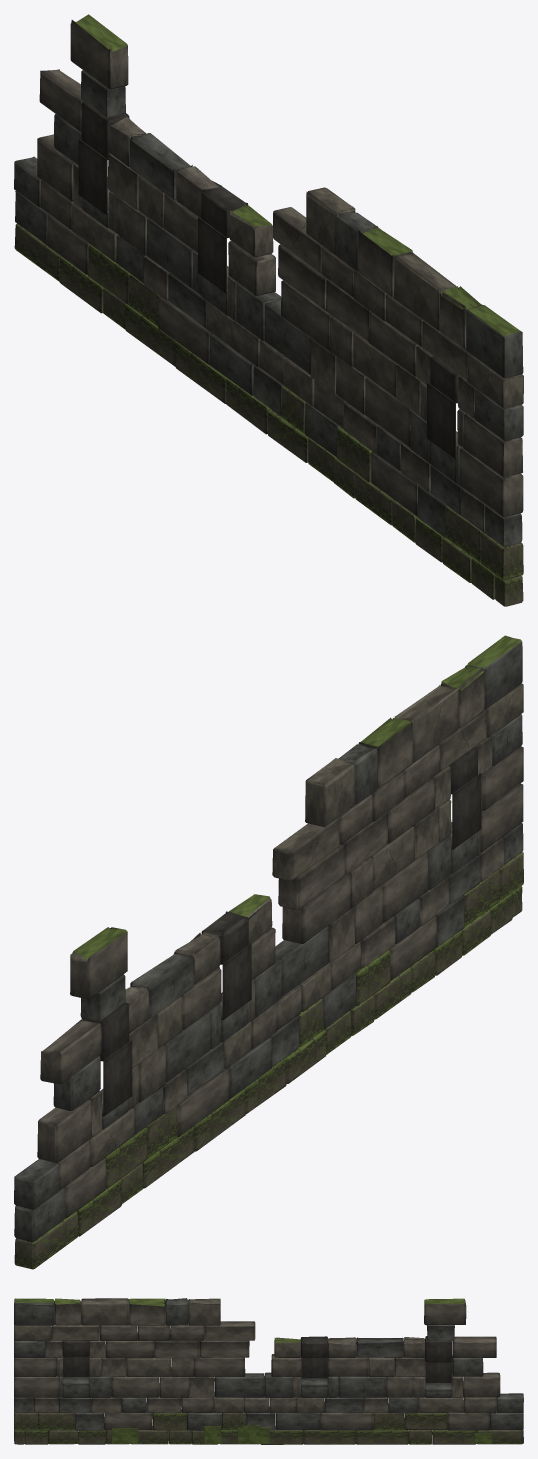
File: THStage_OuterWall_W.fbx
3 views of the same model, one above another, from view 1: azimuth 30°, elevation 25°; view 2: azimuth 150°, elevation 25°; view 3: azimuth 270°, elevation 25° (orthographic). The views are drawn at different scales.
Visible parts, largest first — view 1: THStage_OuterWall_W; view 2: THStage_OuterWall_W; view 3: THStage_OuterWall_W.
Part boxes in pixels (x1,y1,x2,y2): THStage_OuterWall_W: (14, 14, 523, 606); THStage_OuterWall_W: (14, 635, 523, 1269); THStage_OuterWall_W: (14, 1298, 523, 1444).
Bounding box in the file's own units: 0.245 × 2.4 × 7.8.
